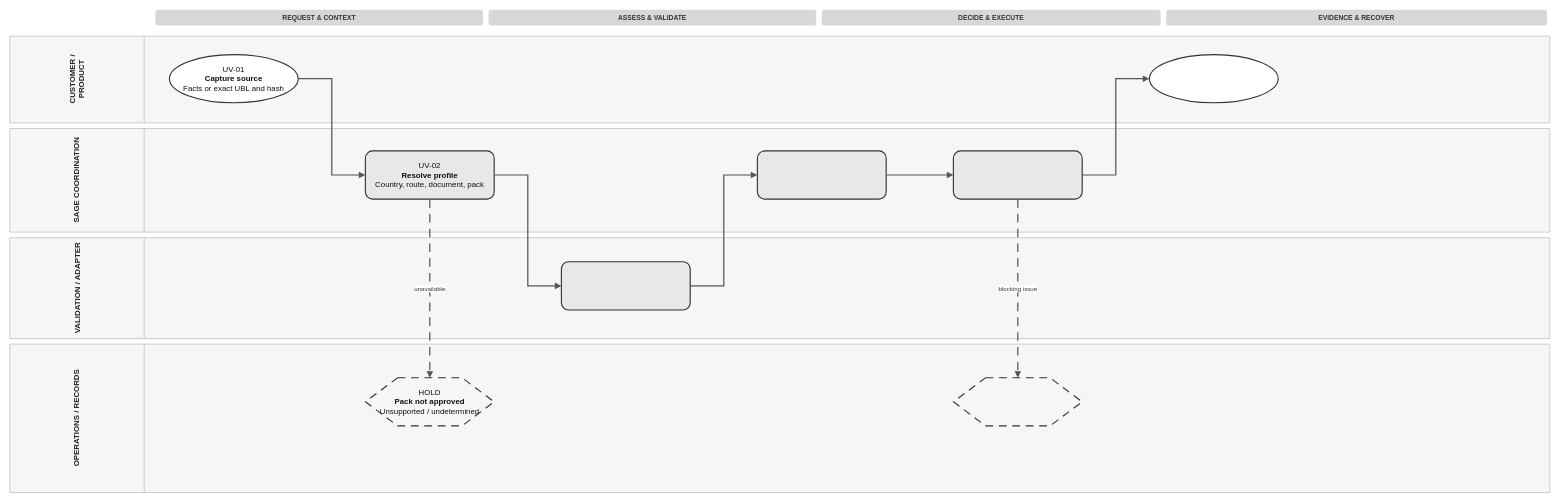
Some shapes in this 1560 by 502 pixel diagram are drawn without their labels. Each missing label, with the centre of its shape:
END Show preflight Pass, blocked or unknown: [1213,78]
UV-03 Generate if needed Distinct target and loss check: [625,285]
UV-04 Validate layers Schema, EN, BIS / country: [821,174]
UV-05 Return issues Rule, location and owner: [1017,174]
UV-06 Correct revision No silent XML edit: [1017,401]
